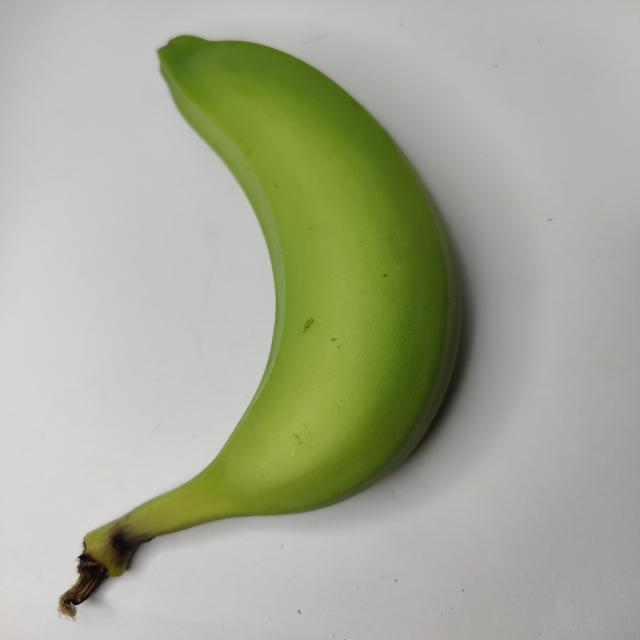raw: (62, 24, 513, 576)
